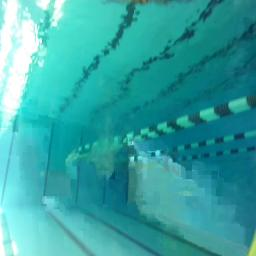Full: (127, 151, 186, 207)
